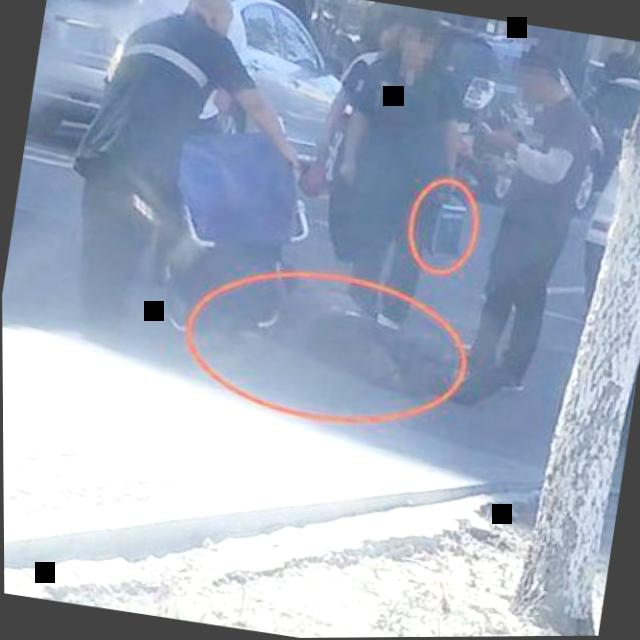Fall-Detected: (239, 252, 465, 407)
